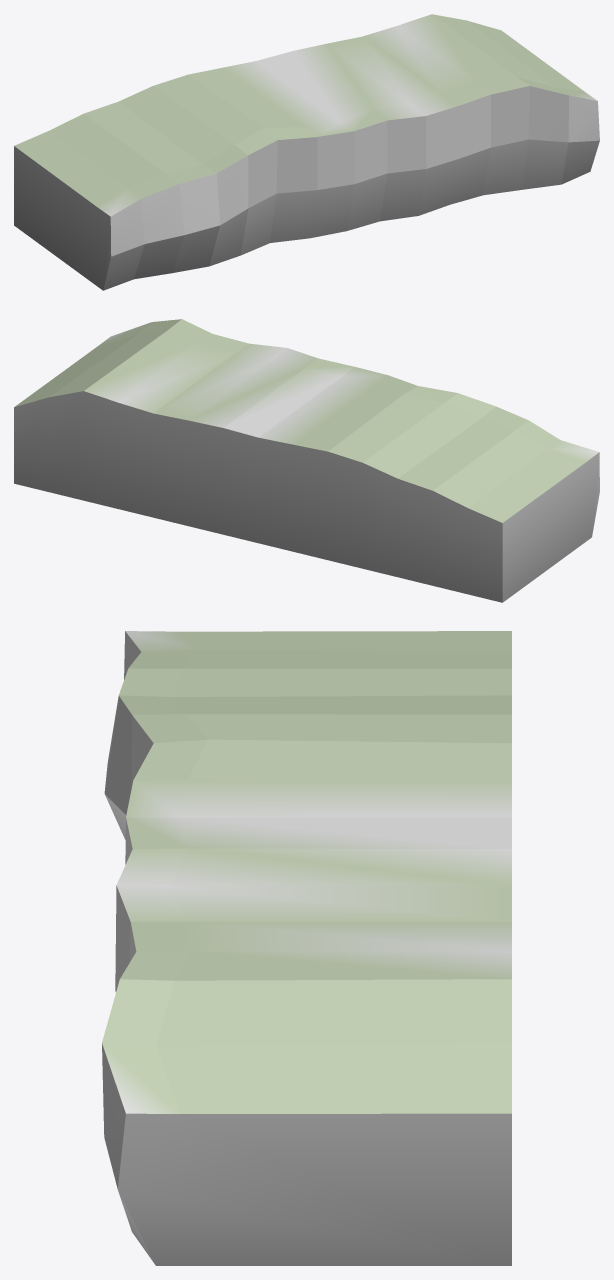
File: ledge_rock.glb
3 renders of one model, top to bottom at view 1: azimuth 30°, elevation 25°; view 2: azimuth 150°, elevation 25°; view 3: azimuth 270°, elevation 25°, orthographic. The views are drawn at different scales.
Parts seen in each view (by area): view 1: ledge_rock; view 2: ledge_rock; view 3: ledge_rock.
Part boxes in pixels (<box>): ledge_rock: <box>14,14,599,290</box>; ledge_rock: <box>14,319,599,602</box>; ledge_rock: <box>102,631,511,1265</box>.
Bounding box in the file's own units: 6 × 1.3 × 2.19.
